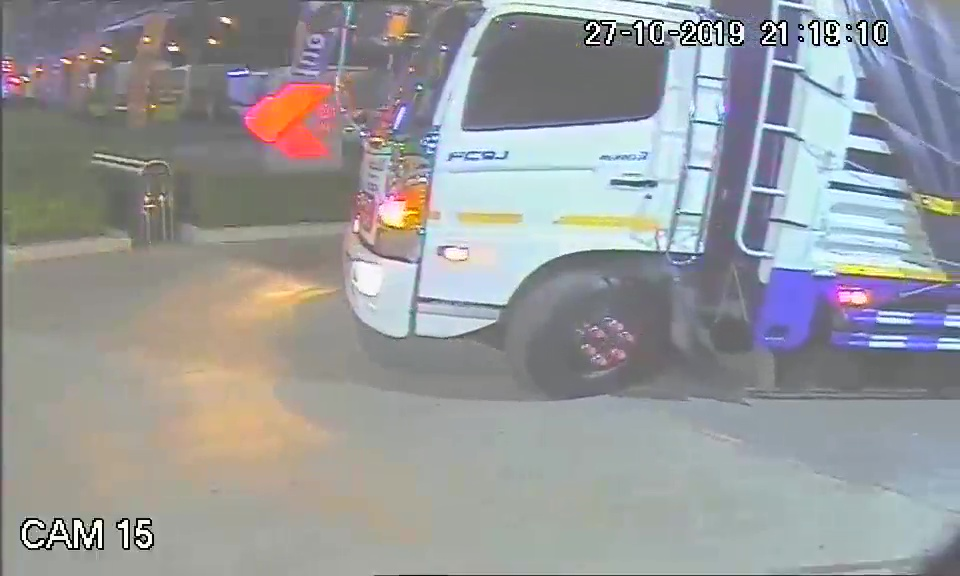truck: (333, 5, 738, 409)
